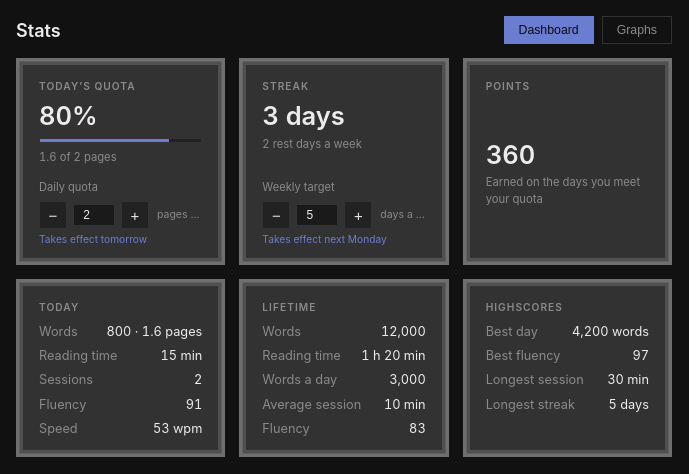
Scenario: Stats screen — tab switch › swaps the Dashboard for the Graphs tab and back
The width and height of the screenshot is (689, 474).
Click the button "Graphs" at (637, 30), box [602,16,672,44]
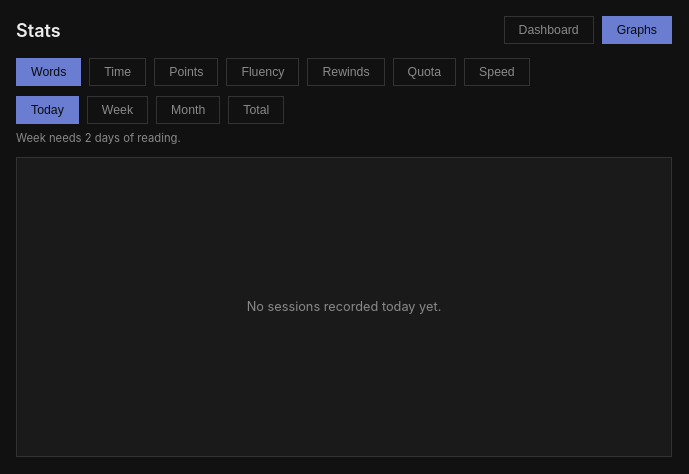
expect the element named "Metric" is shown: met, box [16,58,530,86]
Click the button "Dashboard" at (549, 30), box [504,16,594,44]
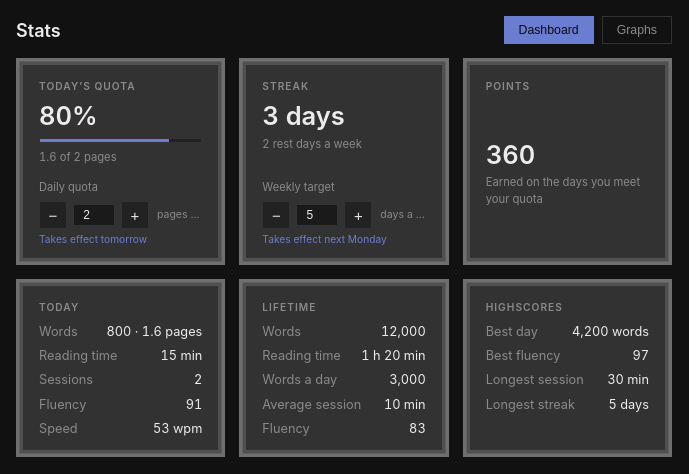
expect the element "Today" is shown: met, box [16,279,225,457]
